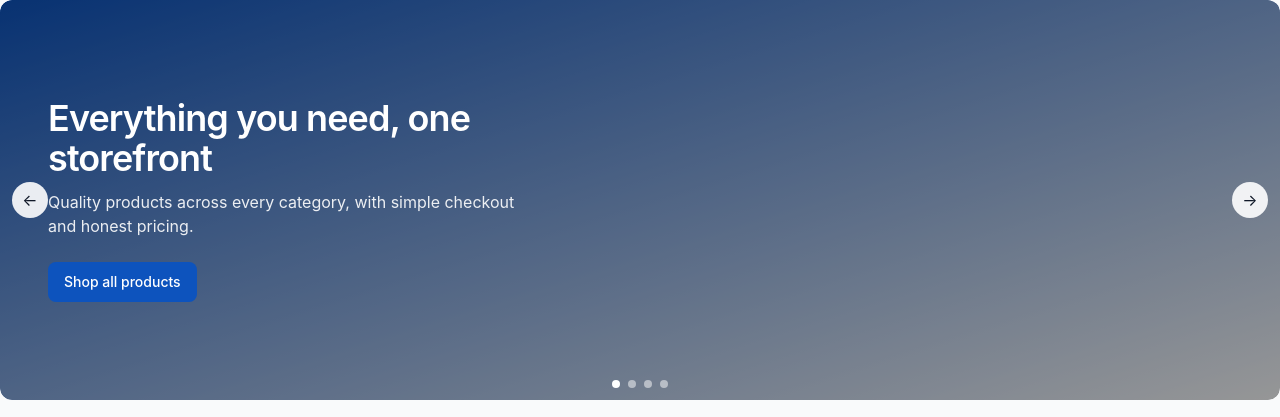
Home › advances to the next hero slide when the "Next slide" control is clicked
This screenshot has width=1280, height=417.
Click the button named "next slide": (1250, 200) [1232, 182, 1268, 218]
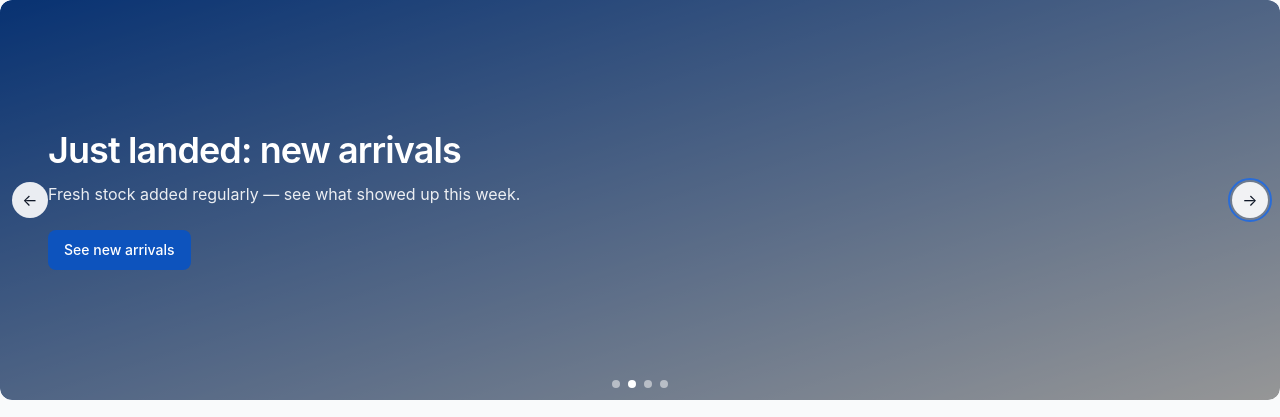
Expected: the heading "Everything you need, one storefront" no longer shows "Everything you need, one storefront"
